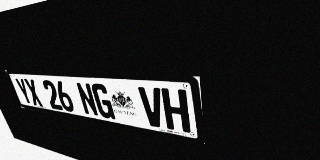2: (41, 80, 63, 110)
6: (53, 81, 76, 113)
G: (90, 83, 116, 120)
H: (161, 88, 191, 133)
N: (75, 82, 99, 117)
V: (138, 86, 166, 129)
X: (23, 78, 44, 107)
Y: (14, 78, 34, 105)
